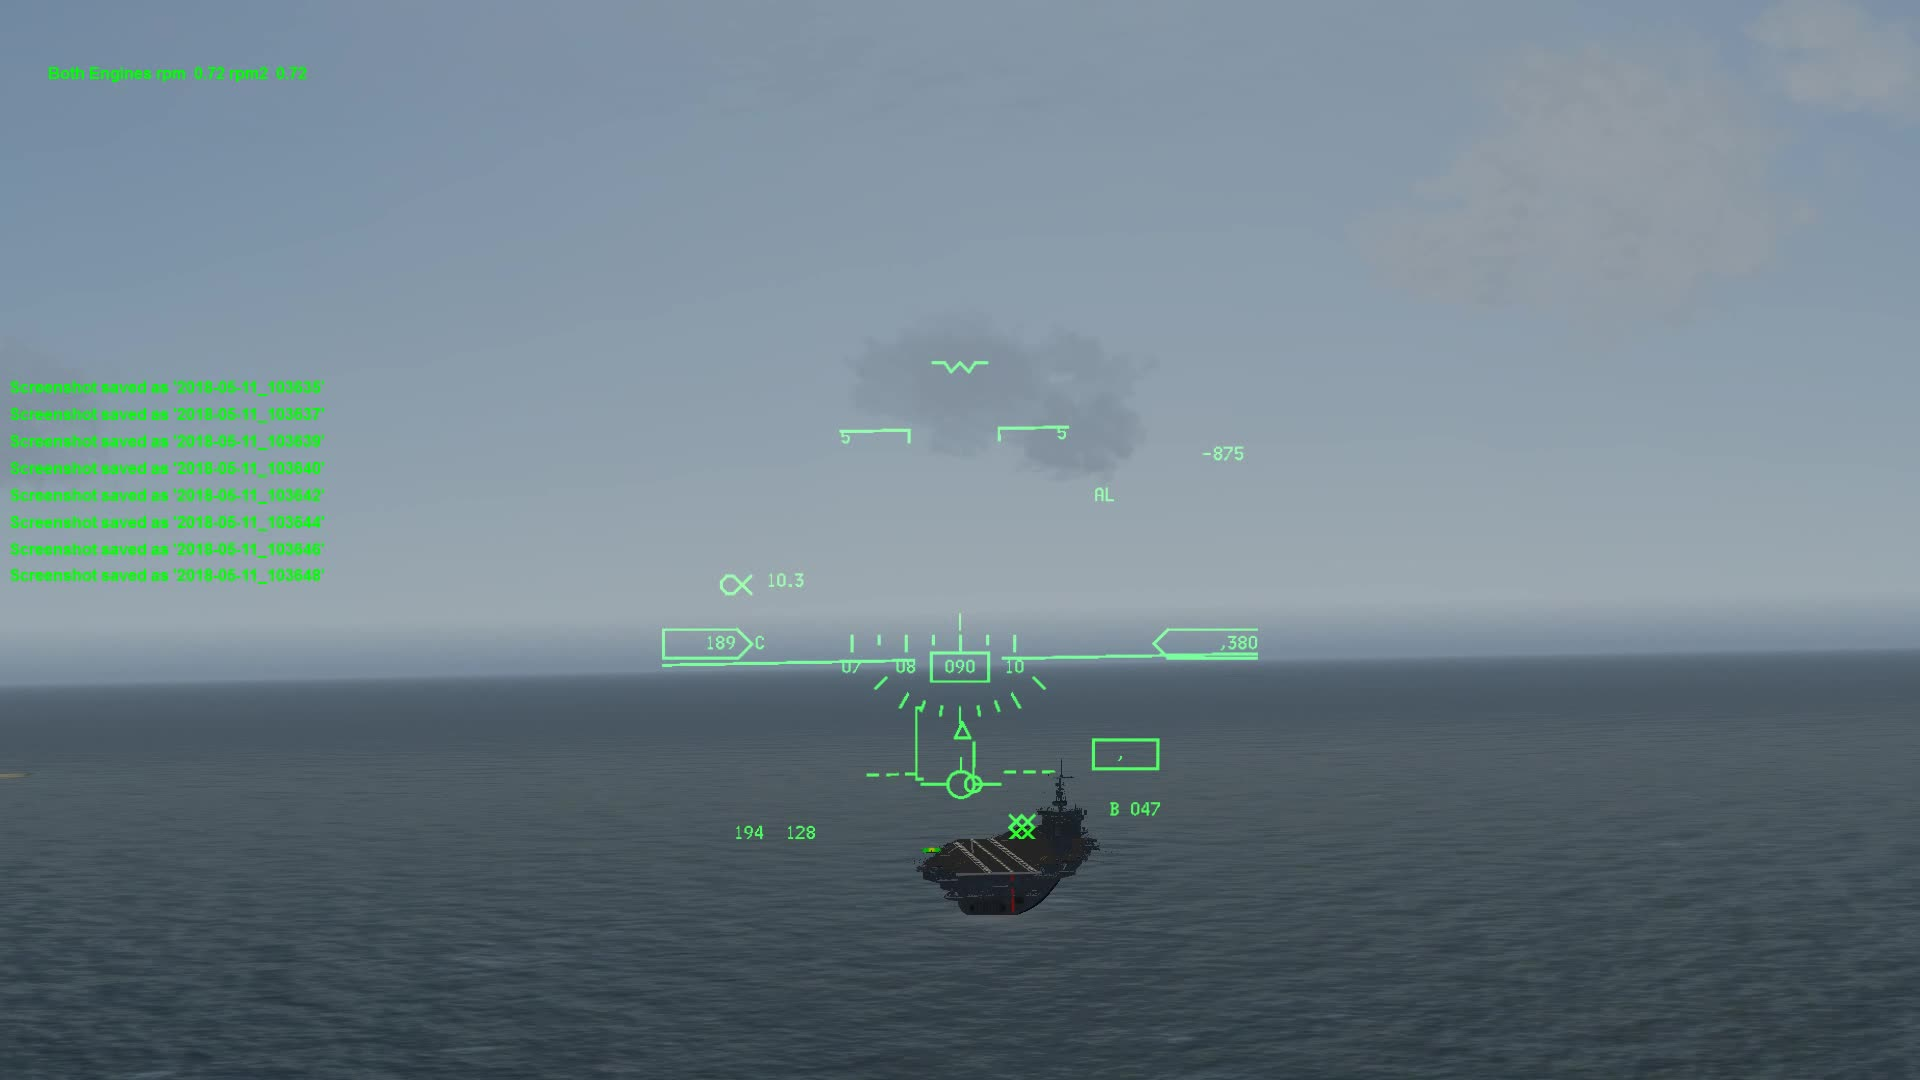speed vector: (930, 753, 1004, 803)
